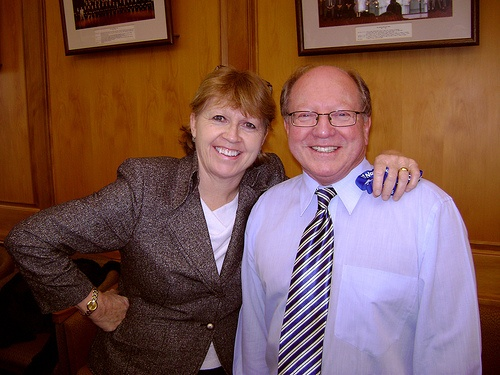head: (282, 60, 377, 187), (190, 64, 273, 182)
person: (8, 60, 276, 375), (238, 63, 482, 375)
